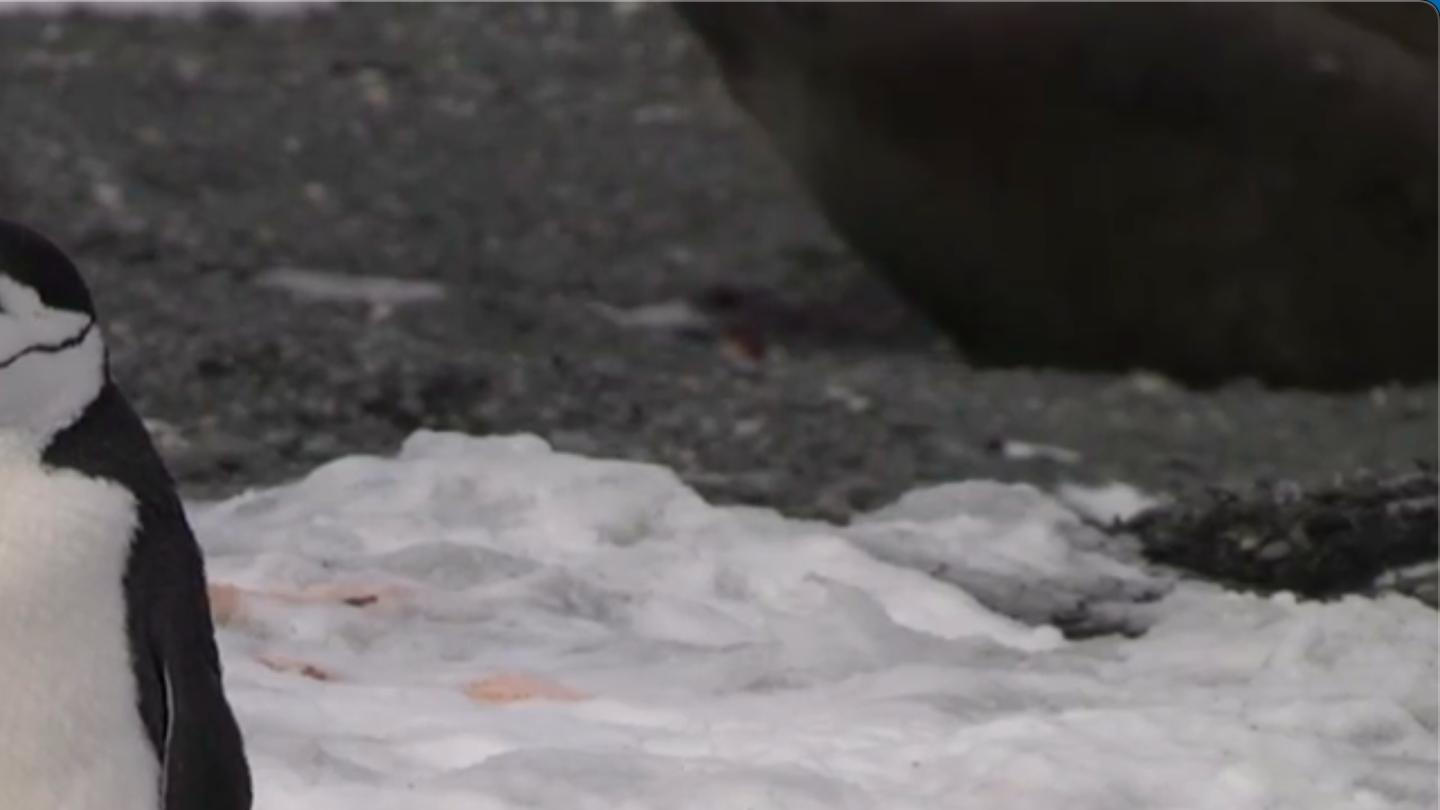Chinstrap Penguin: (0, 585, 562, 810), (0, 195, 221, 577)
